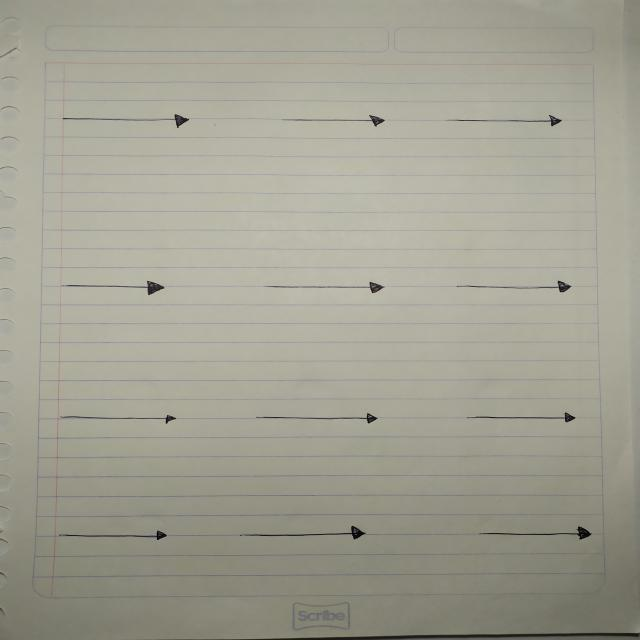arrow_line_right: (225, 519, 382, 551), (56, 105, 198, 138), (436, 273, 582, 303), (47, 405, 189, 435), (241, 273, 393, 299), (49, 272, 177, 300), (242, 409, 385, 434), (455, 408, 592, 434), (268, 108, 395, 136), (467, 519, 600, 545), (426, 112, 573, 133), (49, 524, 172, 548)
